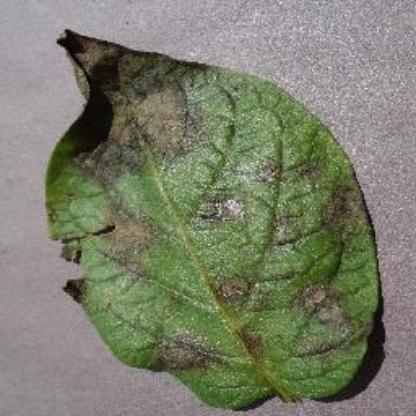Late-Blight: (34, 8, 398, 416)
